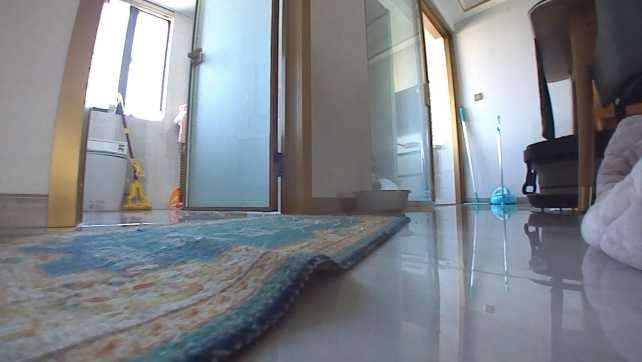blanket: (0, 212, 410, 360)
door_anno: (181, 0, 310, 211)
toilet: (82, 131, 135, 210)
